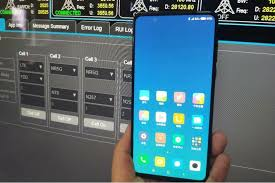mi: (132, 7, 219, 181)
